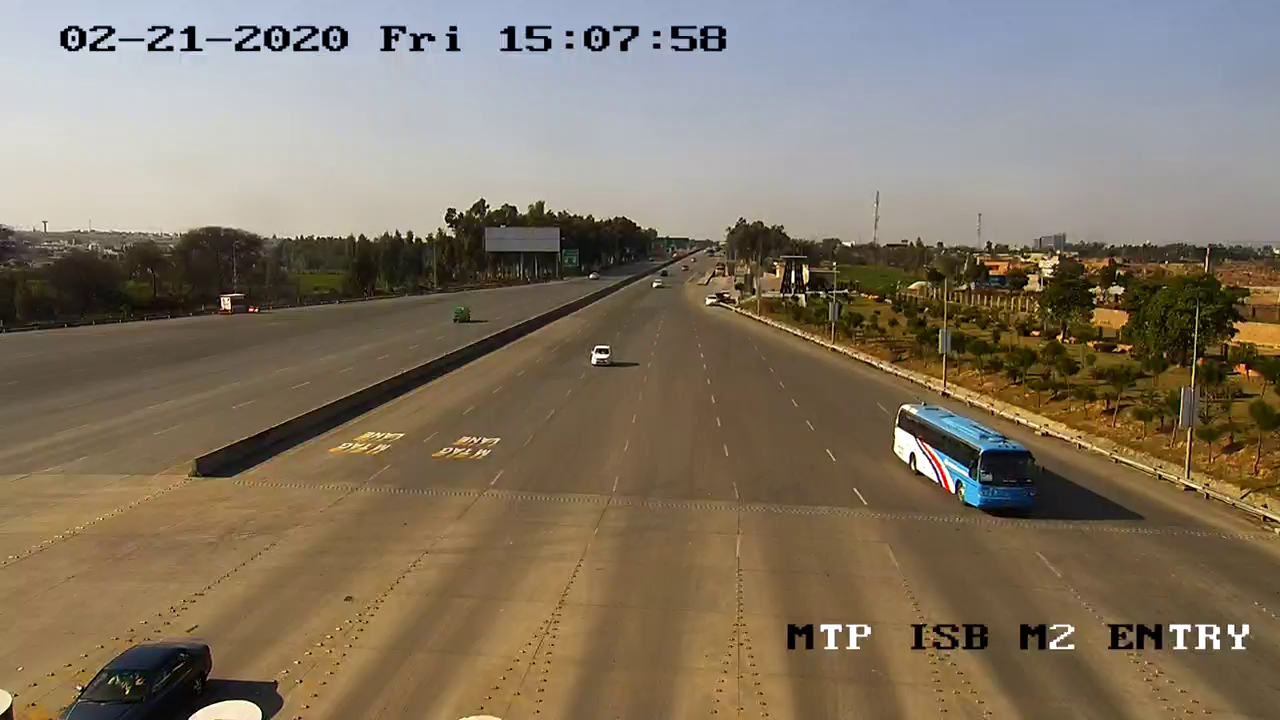f4: (881, 383, 1057, 524)
